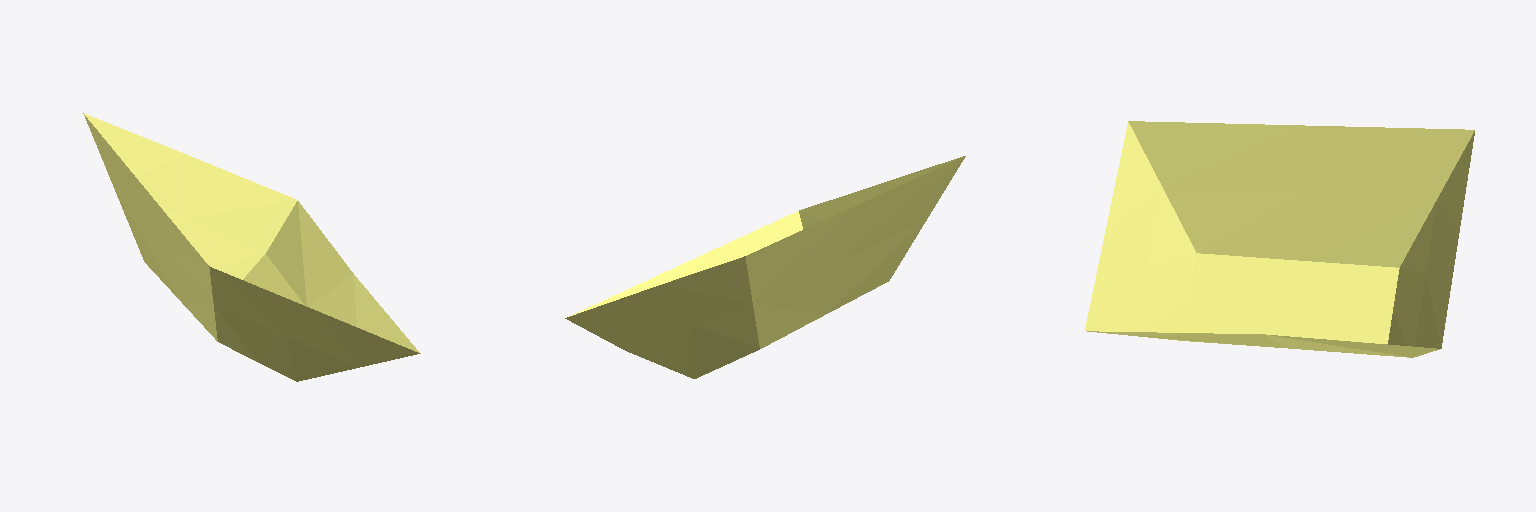
The model's file is DisplayEmitter.obj.
3 views of the same model, side by side, from view 1: azimuth 30°, elevation 25°; view 2: azimuth 150°, elevation 25°; view 3: azimuth 270°, elevation 25° (orthographic).
Visible parts, largest first — view 1: DisplayEmitter (2); view 2: DisplayEmitter (2); view 3: DisplayEmitter (2).
Boxes of the visible parts, x1,y1,x2,y2 form: DisplayEmitter (2): [83, 113, 420, 381]; DisplayEmitter (2): [565, 156, 965, 378]; DisplayEmitter (2): [1085, 121, 1474, 357].
Size of the model in its own units: 0.5242 by 0.3662 by 0.7236.